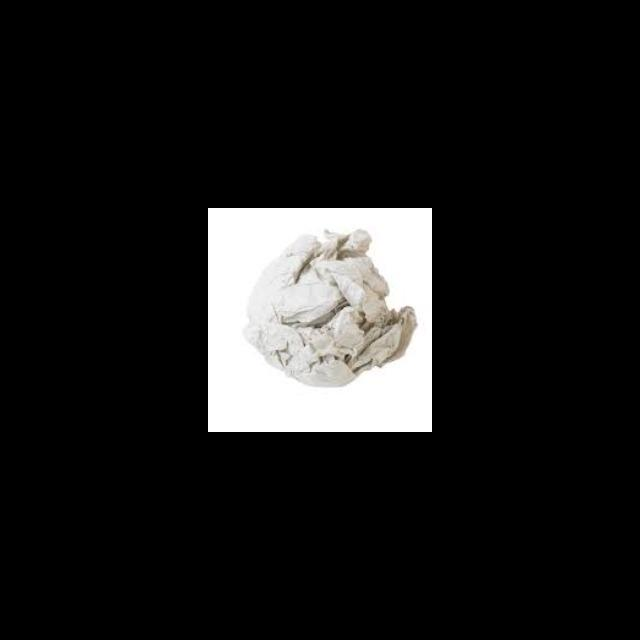paper: (236, 208, 419, 409)
